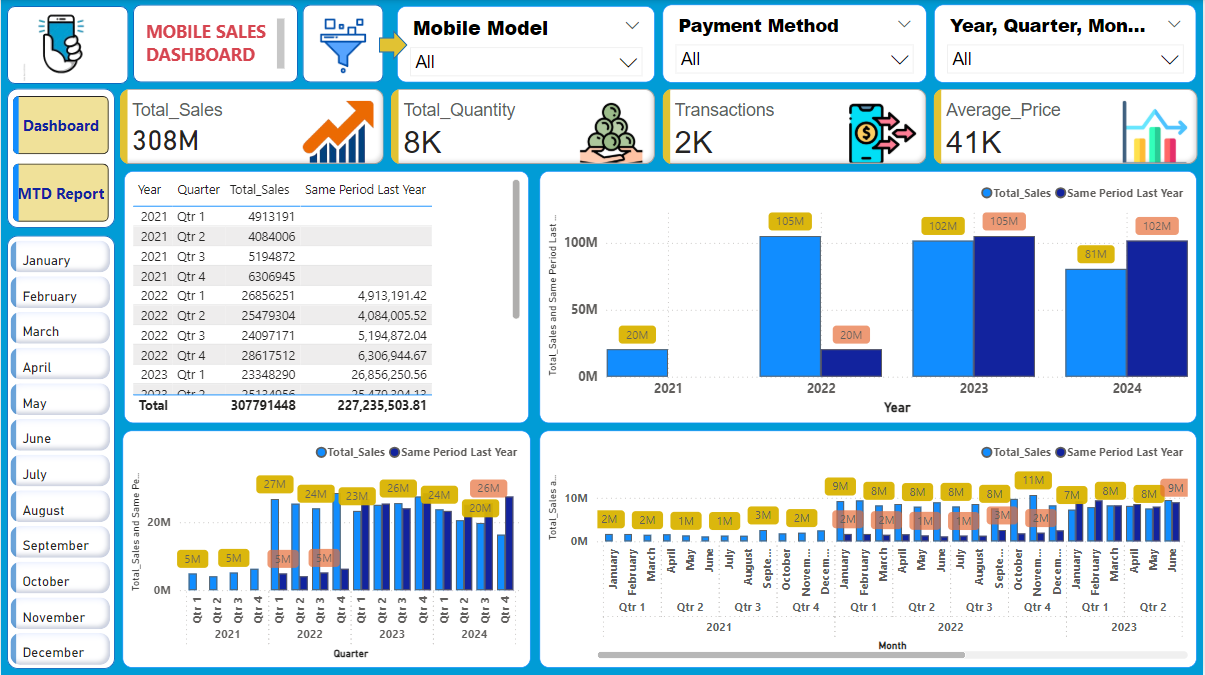

This screenshot's page, from the dashboard's own definition file:
{"tool":"powerbi","page":{"name":"Same Period Last Year","canvas":[1280,720],"ordinal":2},"visuals":[{"type":"shape","box":[6.4,6.4,129.4,83.1],"z":0},{"type":"image","box":[6.4,0,115,92.7],"z":1000},{"type":"shape","box":[6.4,94.3,115,148.6],"z":2000},{"type":"cardVisual","fields":{"Data":["Mobile_Sales_Data.TOTAL_SALES","Mobile_Sales_Data.TOTAL_QUANTITY","Mobile_Sales_Data.TOTAL_TRANSACTIONS","Mobile_Sales_Data.AVERAGE_PRICE"]},"box":[121.4,89.5,1158.3,90],"z":3000},{"type":"slicer","fields":{"Values":["Mobile_Sales_Data.Mobile Model"]},"box":[421.8,6.4,274.8,81.5],"z":4000},{"type":"slicer","fields":{"Values":["Mobile_Sales_Data.Payment Method"]},"box":[704.6,4.8,281.2,83.1],"z":5000},{"type":"slicer","fields":{"Values":["Custom_Calender.Date.Variation.Date Hierarchy.Year","Custom_Calender.Date.Variation.Date Hierarchy.Quarter","Custom_Calender.Date.Variation.Date Hierarchy.Month","Custom_Calender.Date.Variation.Date Hierarchy.Day"]},"box":[993.8,4.8,279.6,83.1],"z":6000},{"type":"shape","box":[321.1,4.8,86.3,83.1],"z":7000},{"type":"image","box":[329.1,9.6,70.3,78.3],"z":8000},{"type":"shape","box":[402.6,32,30.4,32],"z":9000},{"type":"shape","box":[140.6,4.8,175.7,83.1],"z":10000},{"type":"textbox","box":[148.6,14.4,158.2,70.3],"z":11000},{"type":"shape","box":[6.4,250.8,115,461.7],"z":12000},{"type":"advancedSlicerVisual","fields":{"Values":["Custom_Calender.Date.Variation.Date Hierarchy.Month"]},"box":[4.8,250.8,116.6,468.1],"z":13000},{"type":"tableEx","fields":{"Values":["Custom_Calender.Date.Variation.Date Hierarchy.Year","Custom_Calender.Date.Variation.Date Hierarchy.Quarter","Mobile_Sales_Data.Total_Sales","Mobile_Sales_Data.Same Period Last Year"]},"box":[131,182.1,431.4,268.4],"z":14000},{"type":"clusteredColumnChart","fields":{"Category":["Custom_Calender.Date.Variation.Date Hierarchy.Year","Custom_Calender.Date.Variation.Date Hierarchy.Quarter","Custom_Calender.Date.Variation.Date Hierarchy.Month","Custom_Calender.Date.Variation.Date Hierarchy.Day"],"Y":["Mobile_Sales_Data.Total_Sales","Mobile_Sales_Data.Same Period Last Year"]},"box":[573.6,182.1,699.8,268.4],"z":15000},{"type":"clusteredColumnChart","fields":{"Category":["Custom_Calender.Date.Variation.Date Hierarchy.Year","Custom_Calender.Date.Variation.Date Hierarchy.Quarter","Custom_Calender.Date.Variation.Date Hierarchy.Month","Custom_Calender.Date.Variation.Date Hierarchy.Day"],"Y":["Mobile_Sales_Data.Total_Sales","Mobile_Sales_Data.Same Period Last Year"]},"box":[129.4,458.5,434.6,252.4],"z":16000},{"type":"clusteredColumnChart","fields":{"Category":["Custom_Calender.Date.Variation.Date Hierarchy.Year","Custom_Calender.Date.Variation.Date Hierarchy.Quarter","Custom_Calender.Date.Variation.Date Hierarchy.Month","Custom_Calender.Date.Variation.Date Hierarchy.Day"],"Y":["Mobile_Sales_Data.Total_Sales","Mobile_Sales_Data.Same Period Last Year"]},"box":[573.6,458.5,699.8,252.4],"z":17000},{"type":"pageNavigator","box":[12.8,102.3,102,134.2],"z":18000}]}

Visuals, with their boxes in screenshot pixels (x1, y1, x2, y2), scaled from the page's 1280x720 canvas onto the 1205x675 screenshot:
shape: 6,6,128,84
image: 6,0,114,87
shape: 6,88,114,228
cardVisual - Mobile_Sales_Data.TOTAL_SALES x Mobile_Sales_Data.TOTAL_QUANTITY: 114,84,1204,168
slicer - Mobile_Sales_Data.Mobile Model: 397,6,656,82
slicer - Mobile_Sales_Data.Payment Method: 663,4,928,82
slicer - Custom_Calender.Date.Variation.Date Hierarchy.Year x Custom_Calender.Date.Variation.Date Hierarchy.Quarter: 936,4,1199,82
shape: 302,4,384,82
image: 310,9,376,82
shape: 379,30,408,60
shape: 132,4,298,82
textbox: 140,14,289,79
shape: 6,235,114,668
advancedSlicerVisual - Custom_Calender.Date.Variation.Date Hierarchy.Month: 5,235,114,674
tableEx - Custom_Calender.Date.Variation.Date Hierarchy.Year x Custom_Calender.Date.Variation.Date Hierarchy.Quarter: 123,171,529,422
clusteredColumnChart - Custom_Calender.Date.Variation.Date Hierarchy.Year x Custom_Calender.Date.Variation.Date Hierarchy.Quarter: 540,171,1199,422
clusteredColumnChart - Custom_Calender.Date.Variation.Date Hierarchy.Year x Custom_Calender.Date.Variation.Date Hierarchy.Quarter: 122,430,531,666
clusteredColumnChart - Custom_Calender.Date.Variation.Date Hierarchy.Year x Custom_Calender.Date.Variation.Date Hierarchy.Quarter: 540,430,1199,666
pageNavigator: 12,96,108,222
